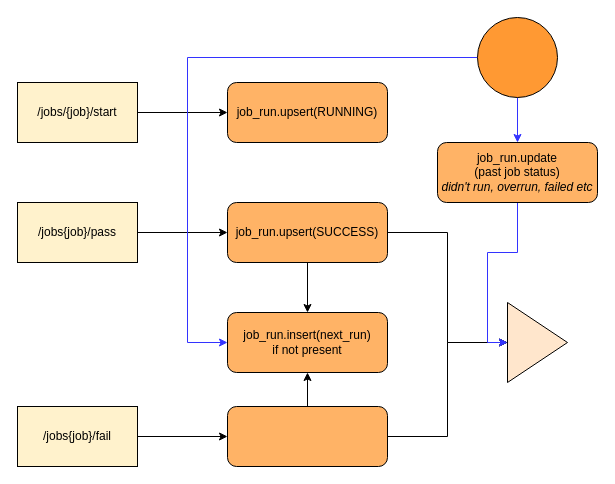
Image size: 615x484. Some labels were removed from this diagram. The shapes that lost their labels are listed below. From the top down, each one's box as (x1, y1, x2, y2) in pixels, then its label:
(476, 16, 558, 98): every(5min)
(506, 302, 568, 382): event
(226, 406, 388, 466): job_run.upsert(FAILED)
